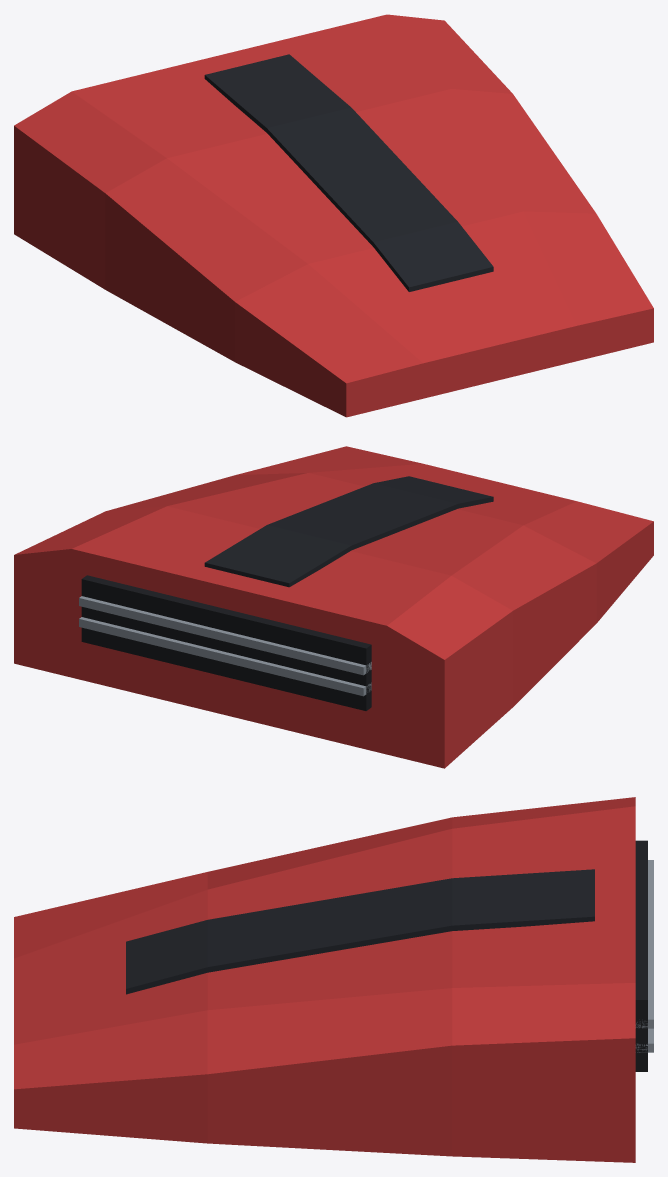
File: hood_scoop_a.glb
3 renders of one model, top to bottom at view 1: azimuth 30°, elevation 25°; view 2: azimuth 150°, elevation 25°; view 3: azimuth 270°, elevation 25°, orthographic. The views are drawn at different scales.
Visible parts, largest first — view 1: Body; view 2: Body; view 3: Body.
Part boxes in pixels (x1=…): Body: x1=14, y1=14, x2=653, y2=417; Body: x1=14, y1=446, x2=653, y2=768; Body: x1=14, y1=797, x2=653, y2=1162.
Bounding box in the file's own units: 0.56 × 0.1617 × 0.628.
